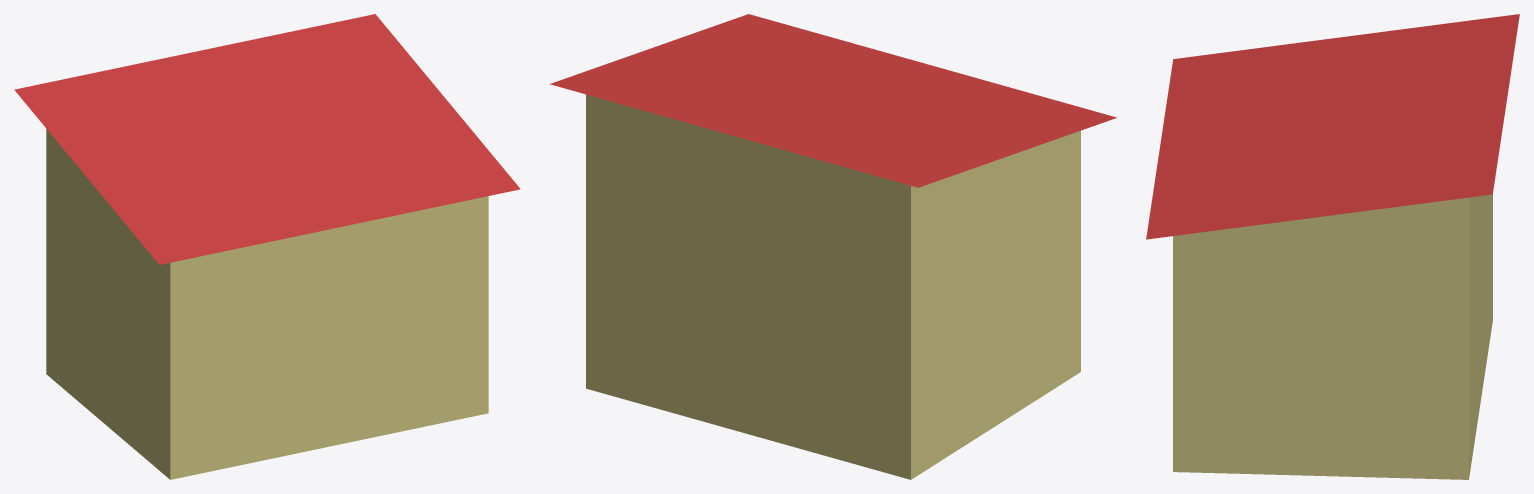
3 views of the same model, side by side, from view 1: azimuth 30°, elevation 25°; view 2: azimuth 150°, elevation 25°; view 3: azimuth 270°, elevation 25° (orthographic). The views are drawn at different scales.
Bounding box in the file's own units: 13.22 × 11.01 × 9.65.
